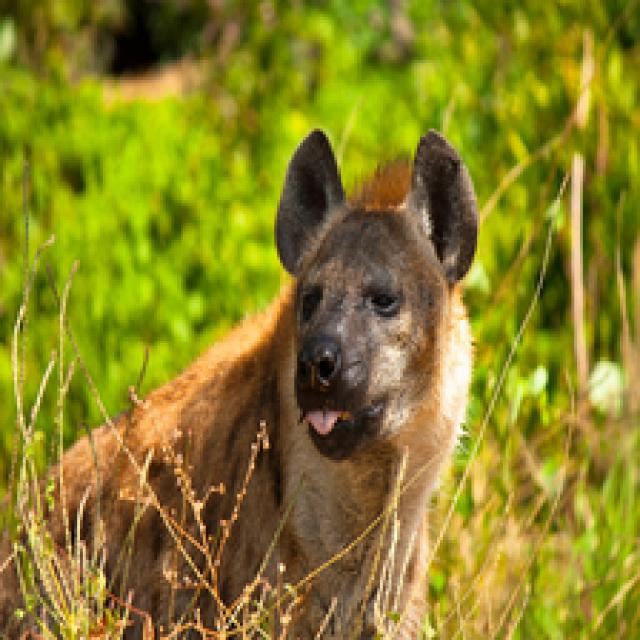hyena: (86, 114, 497, 640)
